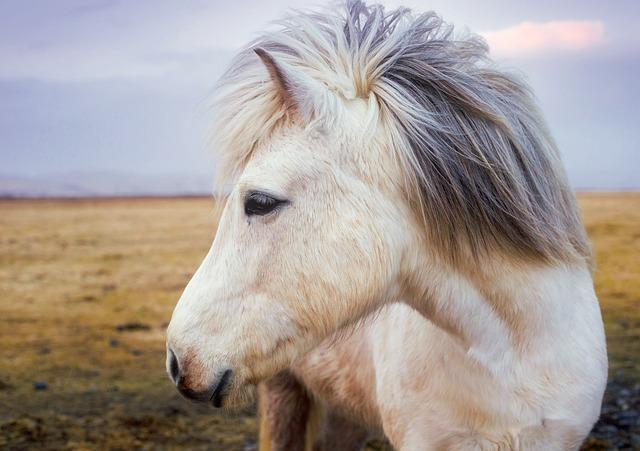Non_Gorille: (121, 9, 628, 451)
